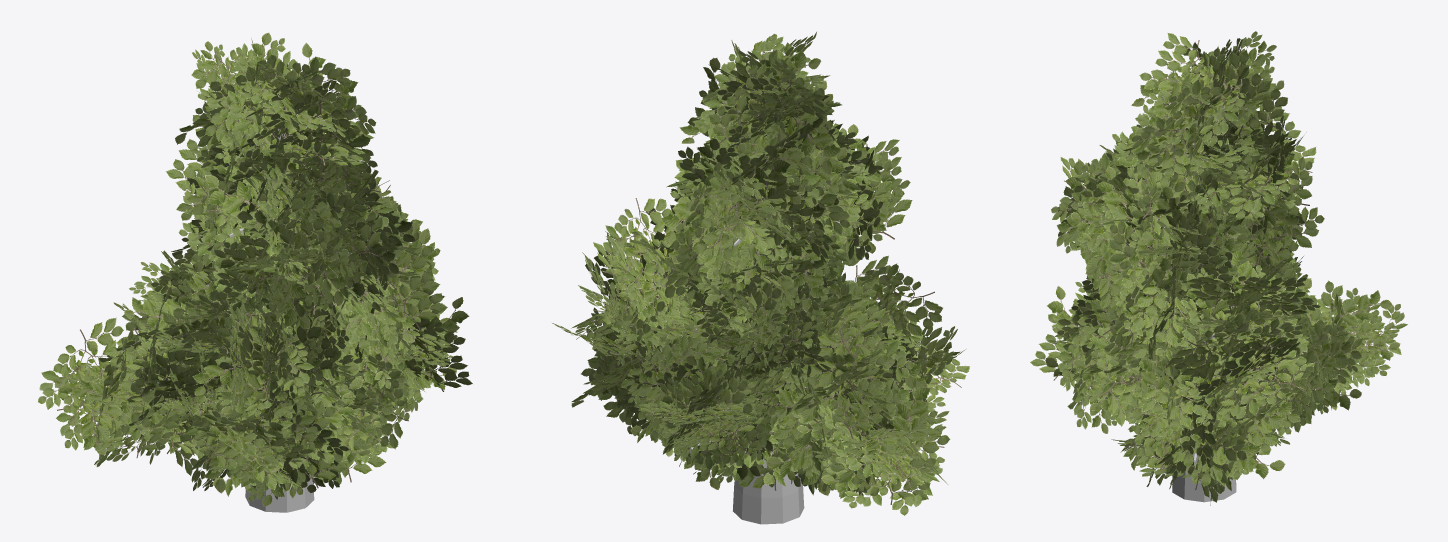
The model's file is Bush - Texture.fbx.
3 views of the same model, side by side, from view 1: azimuth 30°, elevation 25°; view 2: azimuth 150°, elevation 25°; view 3: azimuth 270°, elevation 25° (orthographic). The views are drawn at different scales.
Visible parts, largest first — view 1: Trunk; view 2: Trunk; view 3: Trunk.
Boxes of the visible parts, x1,y1,x2,y2 form: Trunk: (38,32,472,512); Trunk: (552,32,969,524); Trunk: (1030,31,1407,505).
Bounding box in the file's own units: 182 × 194 × 161.
